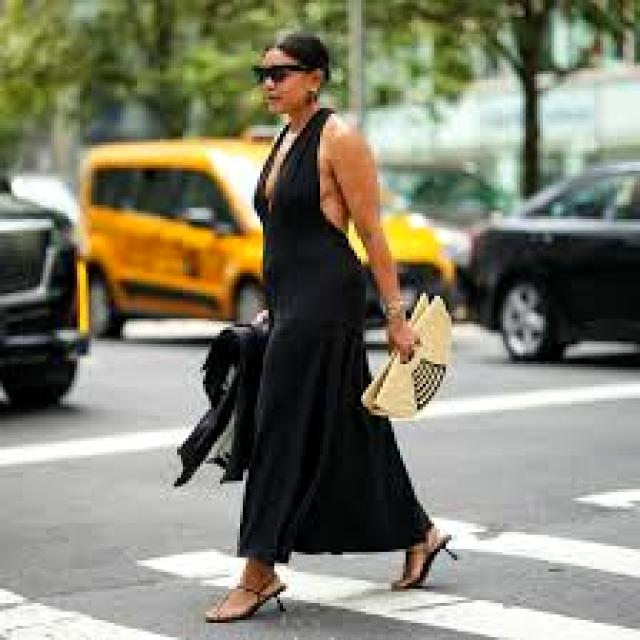dress: (238, 109, 431, 563)
